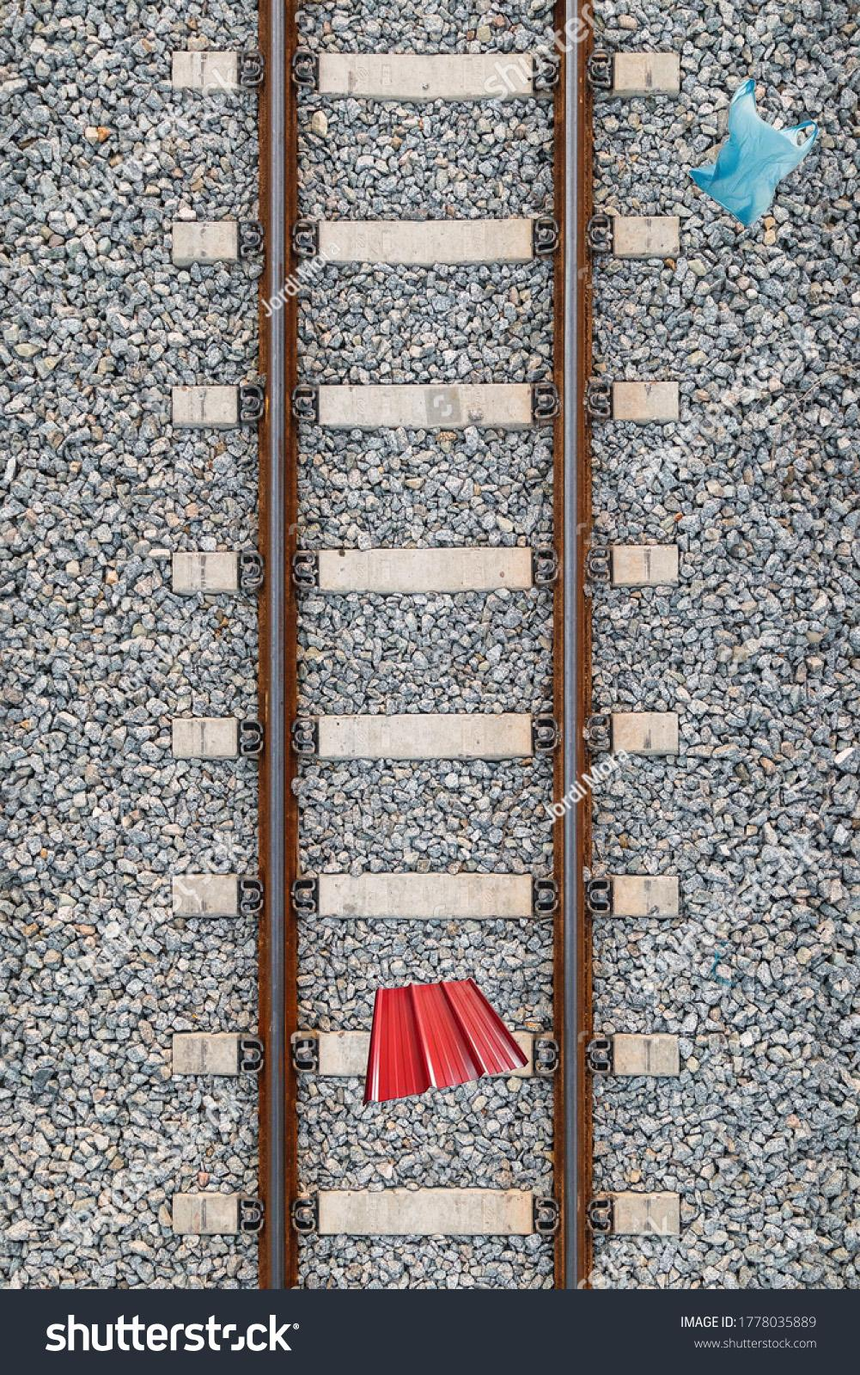Color_steel: (344, 960, 530, 1114)
Plastic: (710, 92, 822, 241)
